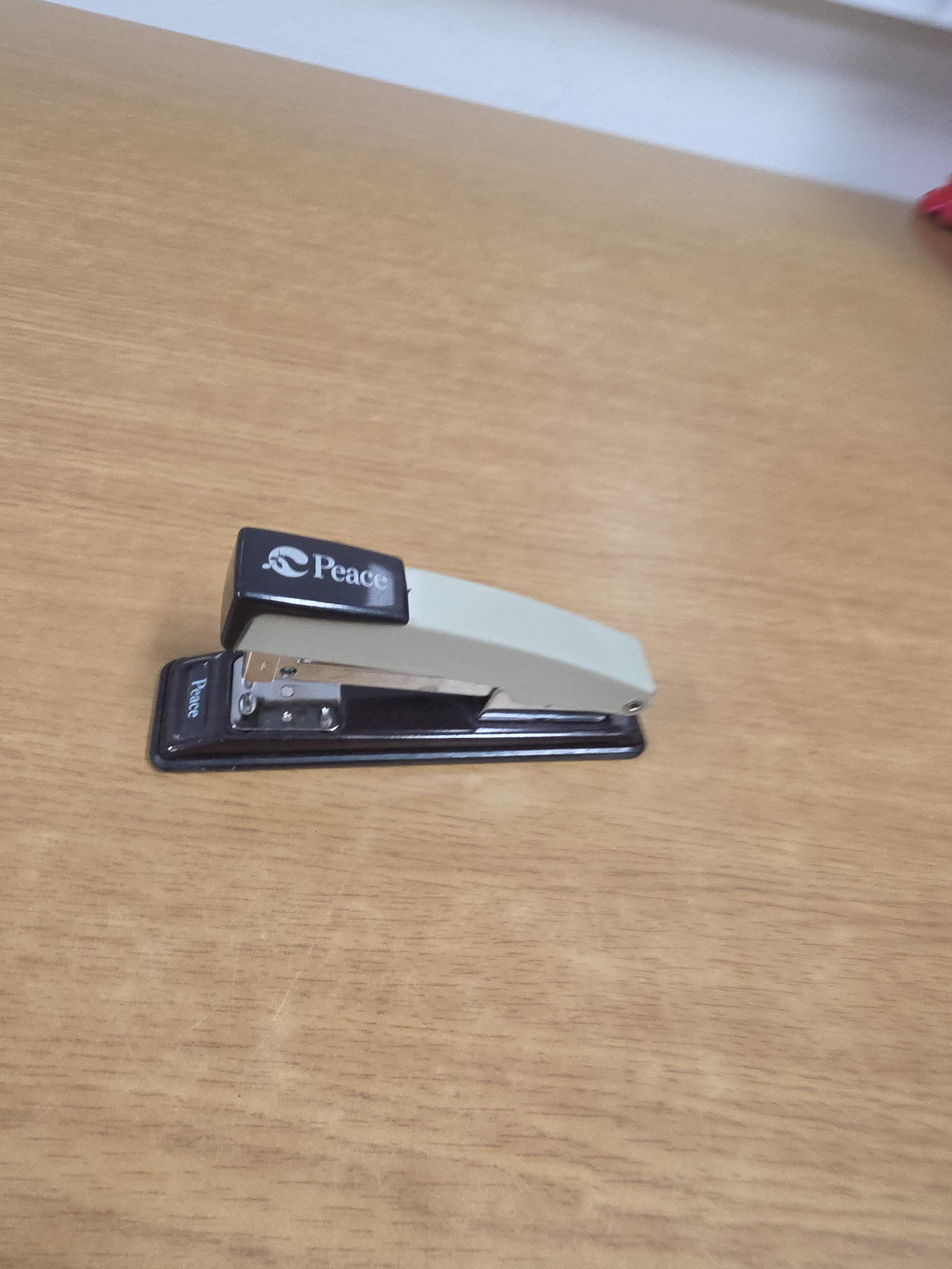stapler: (148, 527, 658, 771)
